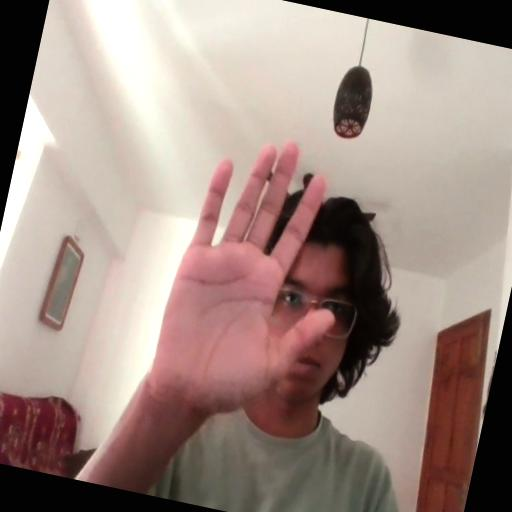Paper: (144, 125, 370, 432)
